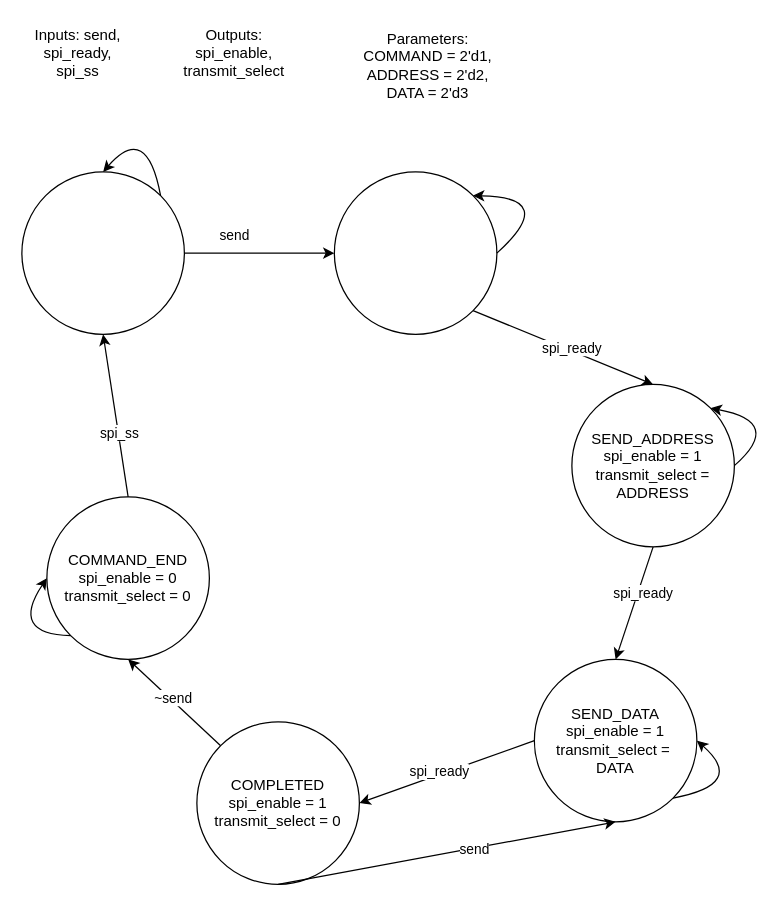
The diagram is 779 pixels wide and 916 high, and some of its shapes have lost their labels. Each missing label, with the box of its shape:
IDLE spi_enable = 0 transmit_select = 2'd0: (21, 171, 184, 334)
SEND_COMMAND spi_enable = 1 transmit_select = COMMAND: (333, 171, 497, 334)
